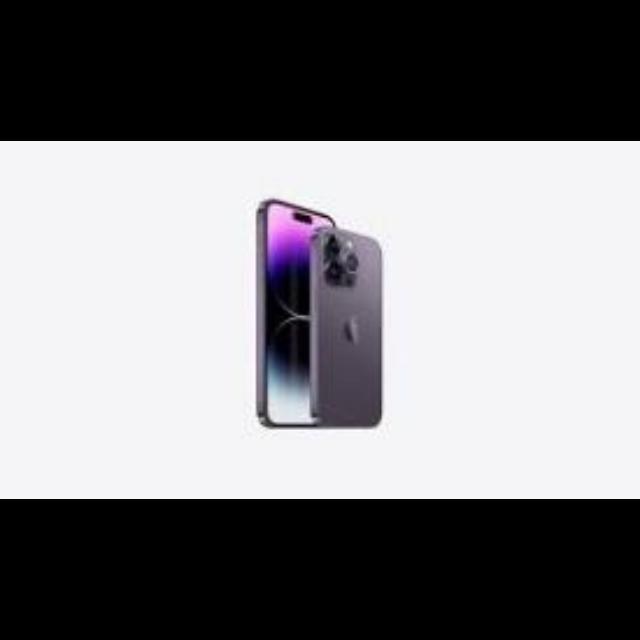phone: (252, 191, 386, 432)
